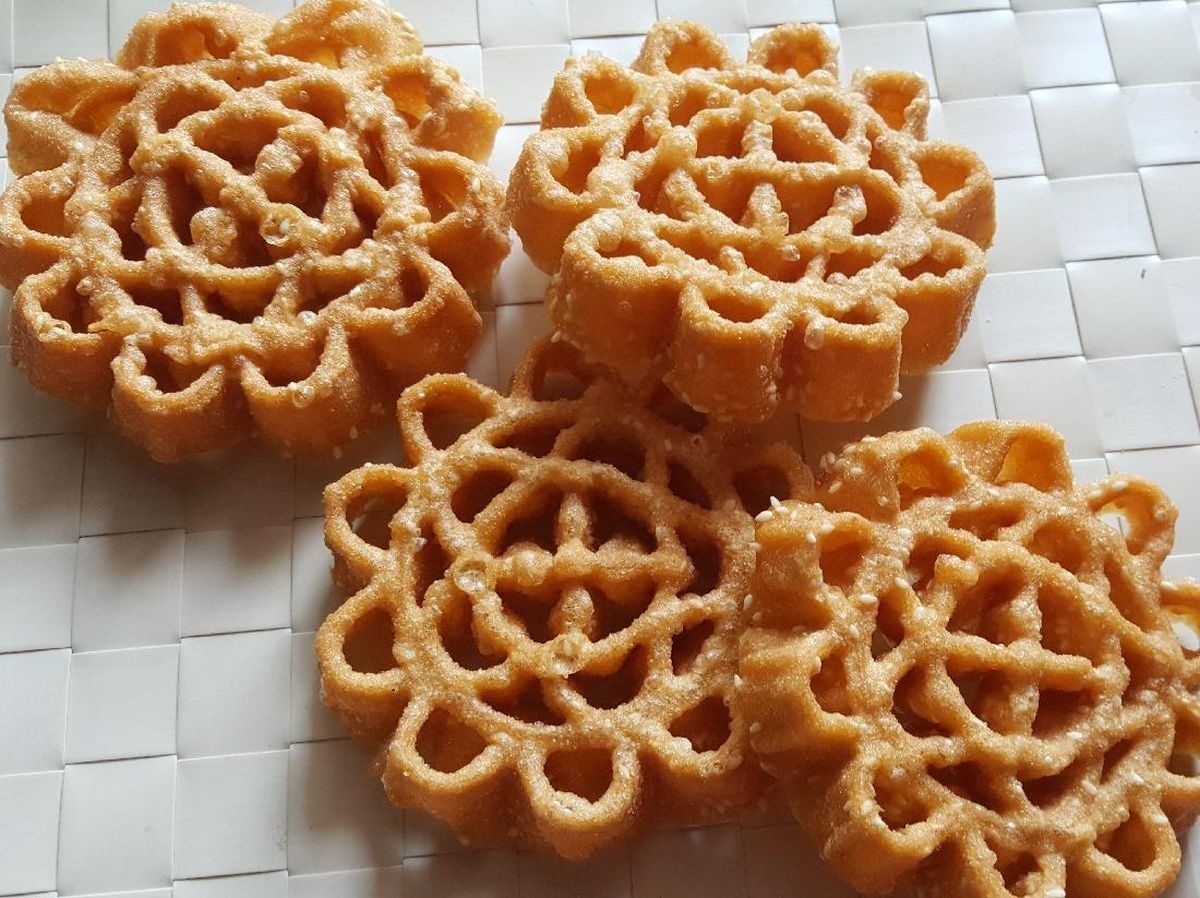kembang_goyang: (9, 7, 539, 428), (356, 349, 782, 859), (497, 12, 1035, 414)
